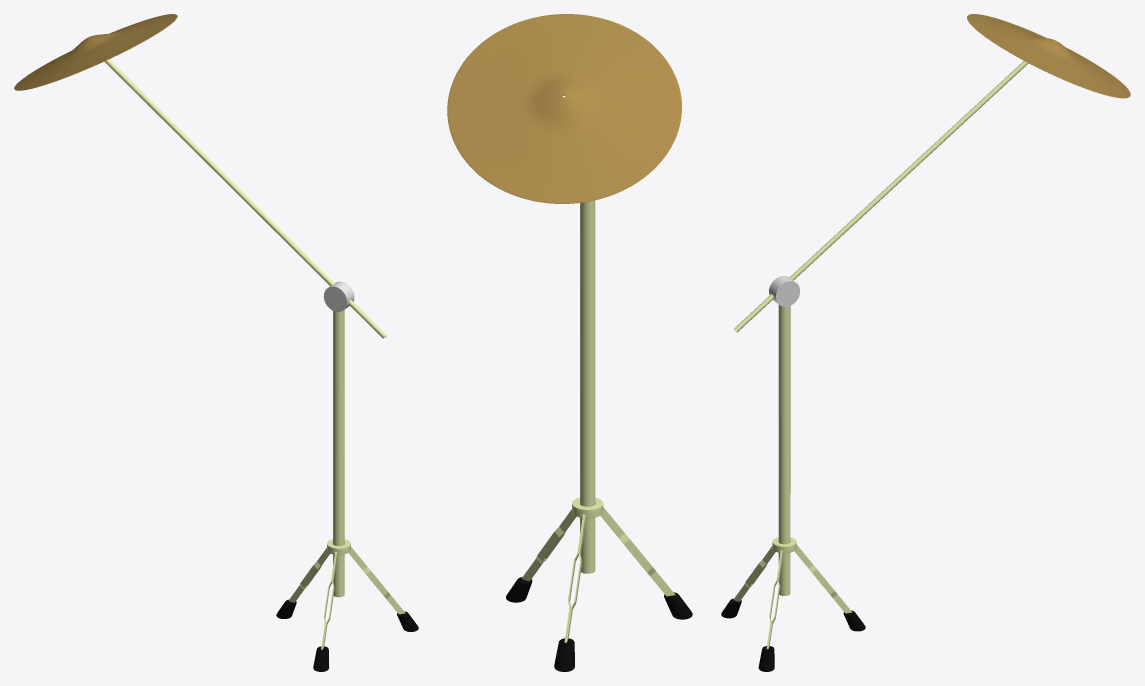
Rendered from Crash_Cymbal.fbx.
3 renders of one model, left to right at view 1: azimuth 30°, elevation 25°; view 2: azimuth 150°, elevation 25°; view 3: azimuth 270°, elevation 25°, orthographic. The views are drawn at different scales.
Parts seen in each view (by area): view 1: Snare_stand.002, Crash_Cymbal, Cylinder.013, Cylinder.014; view 2: Crash_Cymbal, Snare_stand.002; view 3: Snare_stand.002, Crash_Cymbal, Cylinder.013, Cylinder.014.
Boxes of the visible parts, x1,y1,x2,y2 form: Snare_stand.002: (276,310,418,671); Crash_Cymbal: (14,14,177,90); Cylinder.013: (104,59,386,338); Cylinder.014: (323,281,354,311); Crash_Cymbal: (447,14,681,203); Snare_stand.002: (506,200,692,671); Snare_stand.002: (721,305,865,671); Crash_Cymbal: (967,14,1130,98); Cylinder.013: (734,61,1028,332); Cylinder.014: (769,276,800,306).
Size of the model in its own units: 49.57 by 102 by 67.06.
